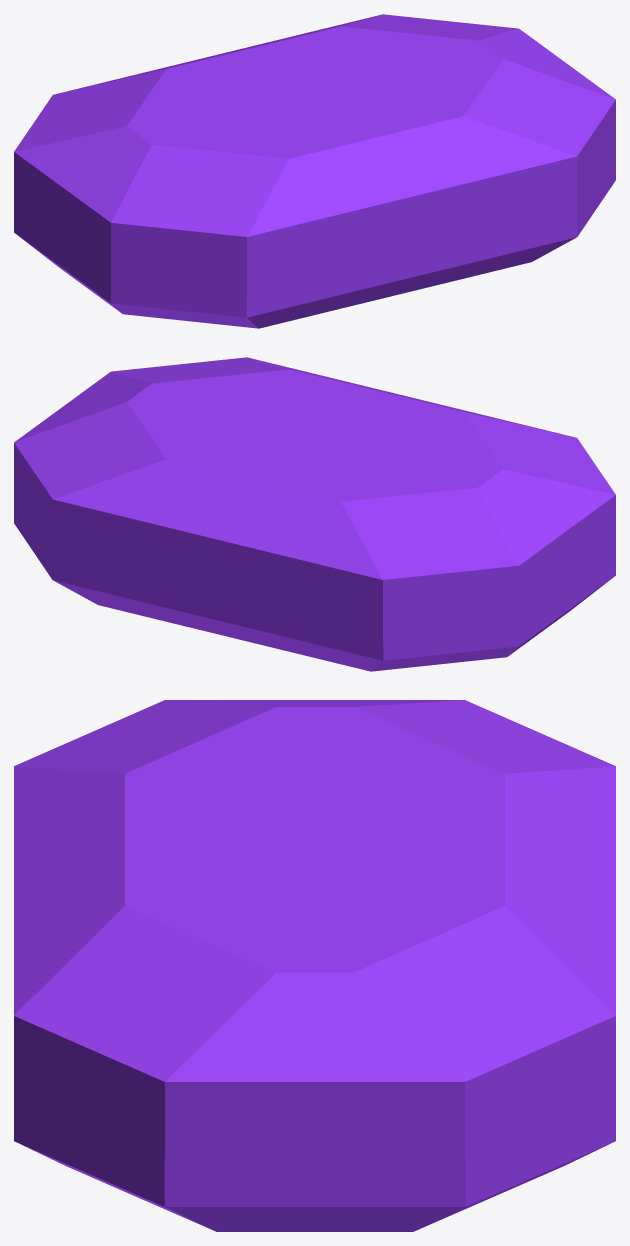
Rendered from Jem_16.fbx.
3 views of the same model, one above another, from view 1: azimuth 30°, elevation 25°; view 2: azimuth 150°, elevation 25°; view 3: azimuth 270°, elevation 25° (orthographic). The views are drawn at different scales.
Parts seen in each view (by area): view 1: Jem_16; view 2: Jem_16; view 3: Jem_16.
Part boxes in pixels (<box>): Jem_16: <box>14,14,615,328</box>; Jem_16: <box>14,357,615,671</box>; Jem_16: <box>14,700,615,1231</box>.
Bounding box in the file's own units: 67.02 × 18.23 × 44.64.
